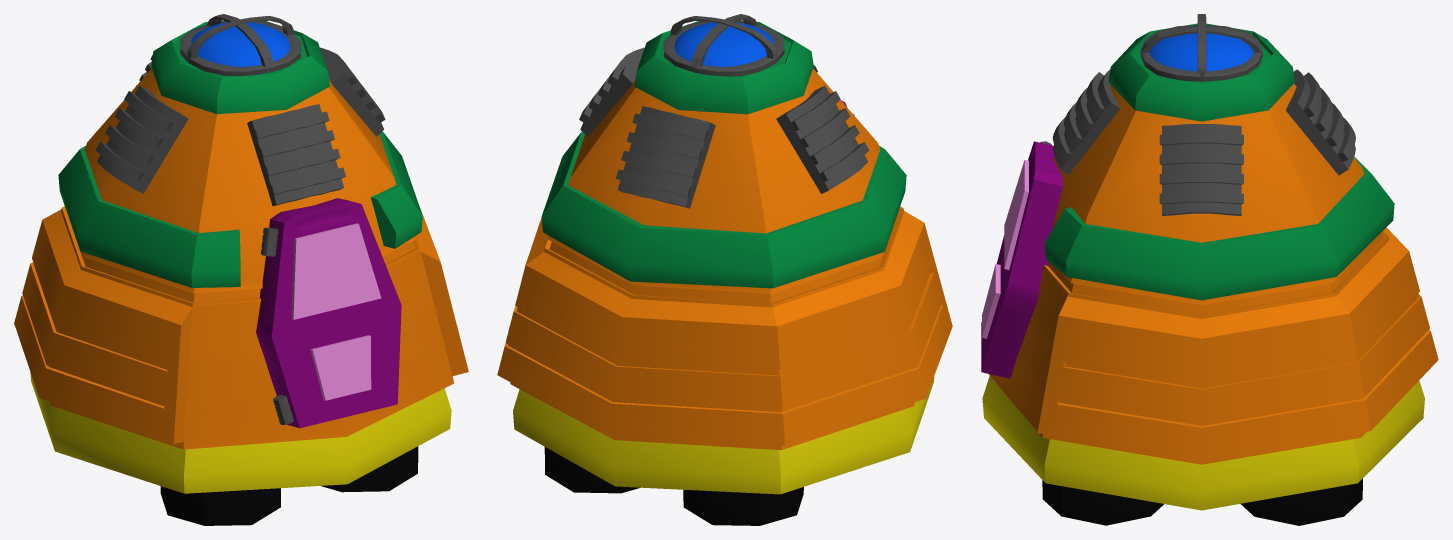
The model's file is EscapePod_FBX.fbx.
3 views of the same model, side by side, from view 1: azimuth 30°, elevation 25°; view 2: azimuth 150°, elevation 25°; view 3: azimuth 270°, elevation 25° (orthographic).
Parts seen in each view (by area): view 1: EscapePod; view 2: EscapePod; view 3: EscapePod.
Part boxes in pixels (left/top/right/bottom): EscapePod: left=14, top=14, right=468, bottom=525; EscapePod: left=497, top=14, right=952, bottom=525; EscapePod: left=981, top=14, right=1438, bottom=525.
Bounding box in the file's own units: 16.23 × 16.56 × 15.66.
